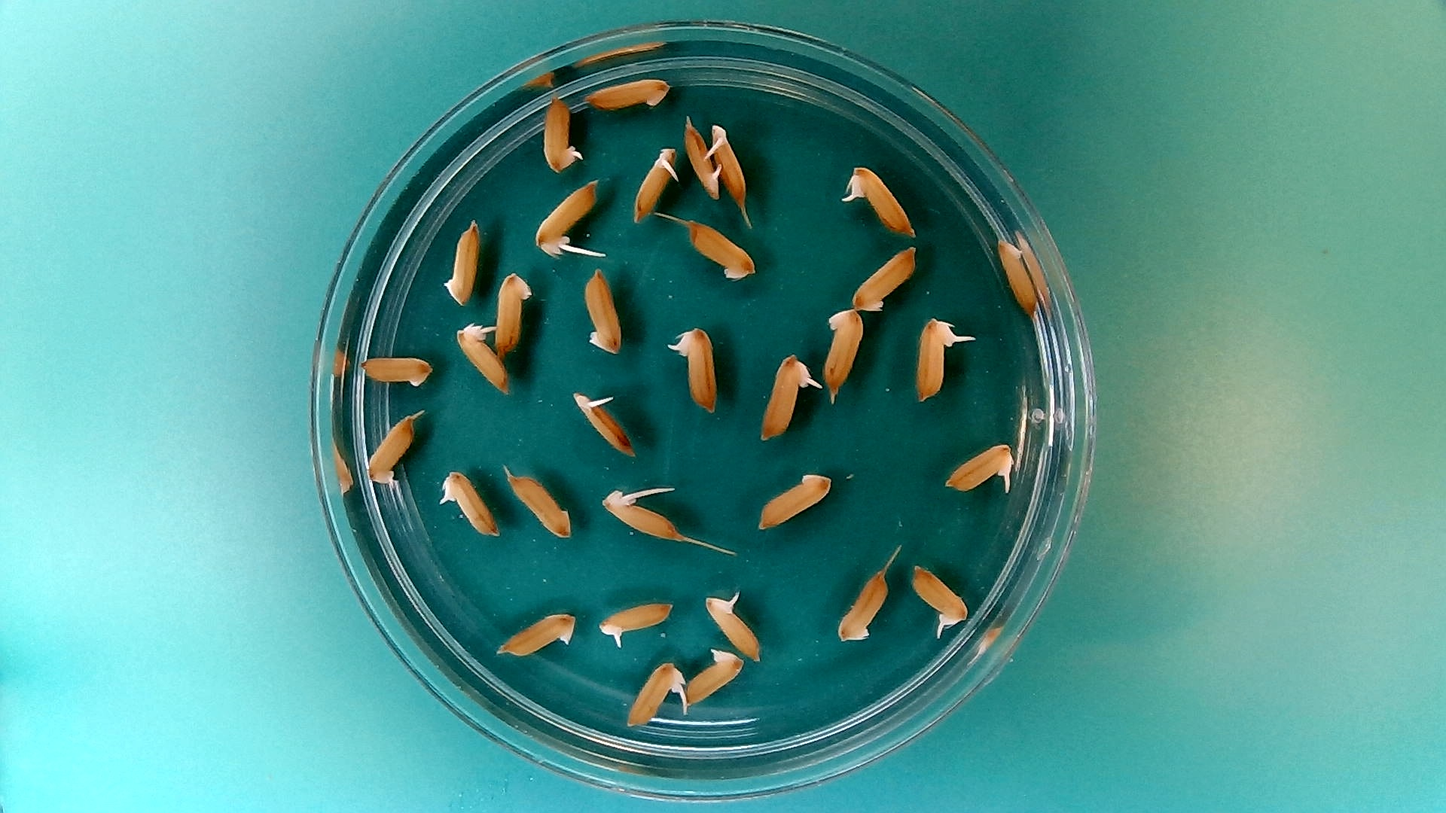no: (753, 467, 837, 534), (502, 466, 573, 539), (682, 218, 758, 280), (852, 243, 920, 312), (362, 410, 419, 492), (834, 564, 891, 645), (493, 608, 578, 660), (822, 303, 866, 399), (990, 231, 1039, 316), (582, 263, 625, 358), (441, 214, 483, 308), (685, 650, 743, 714), (583, 73, 671, 111), (495, 273, 535, 356), (361, 354, 436, 391)
yes: (847, 166, 917, 239), (533, 182, 600, 250), (599, 492, 686, 543), (570, 391, 633, 459), (761, 353, 807, 444), (440, 470, 499, 540), (633, 148, 683, 226), (682, 325, 724, 416), (909, 559, 966, 626), (458, 325, 511, 397), (942, 442, 1014, 493), (709, 598, 765, 661), (682, 114, 723, 199), (915, 319, 953, 406), (622, 665, 679, 723), (709, 125, 749, 206), (598, 598, 675, 640), (541, 90, 576, 172)
